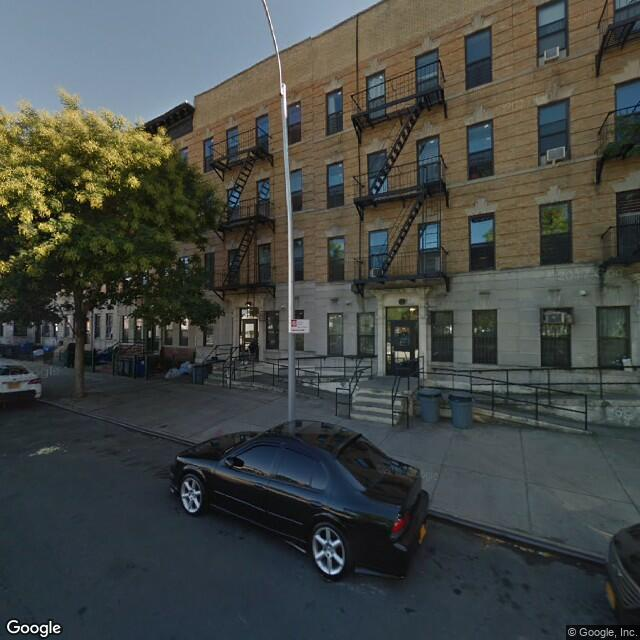litter: (169, 357, 194, 380)
